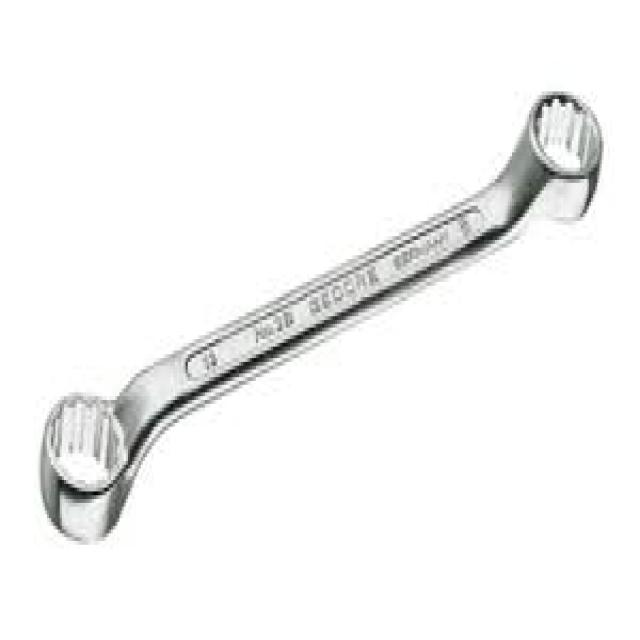Dry: (39, 82, 607, 551)
